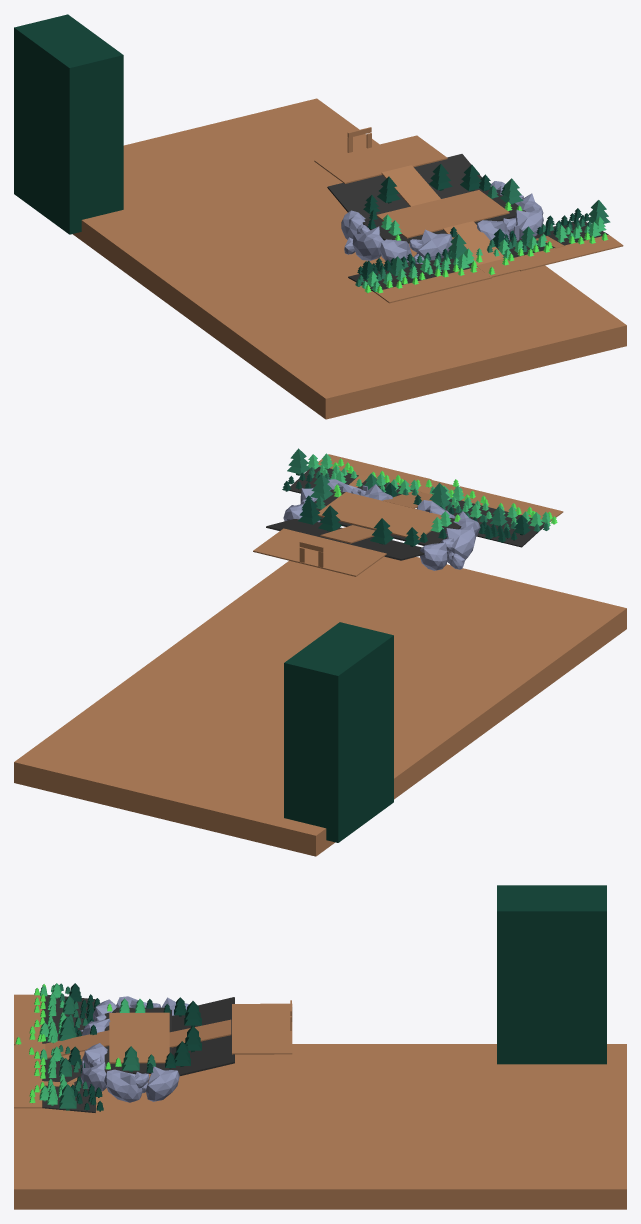
The model's file is forest level.fbx.
The picture shows the model from 3 angles, top to bottom: view 1: azimuth 30°, elevation 25°; view 2: azimuth 150°, elevation 25°; view 3: azimuth 270°, elevation 25°; orthographic projection.
Parts seen in each view (by area): view 1: Cube.184; view 2: Cube.184; view 3: Cube.184.
Boxes of the visible parts, <box> form: Cube.184: <box>14,14,626,419</box>; Cube.184: <box>14,448,626,856</box>; Cube.184: <box>14,885,626,1209</box>.
Bounding box in the file's own units: 6410 × 3362 × 10763.
